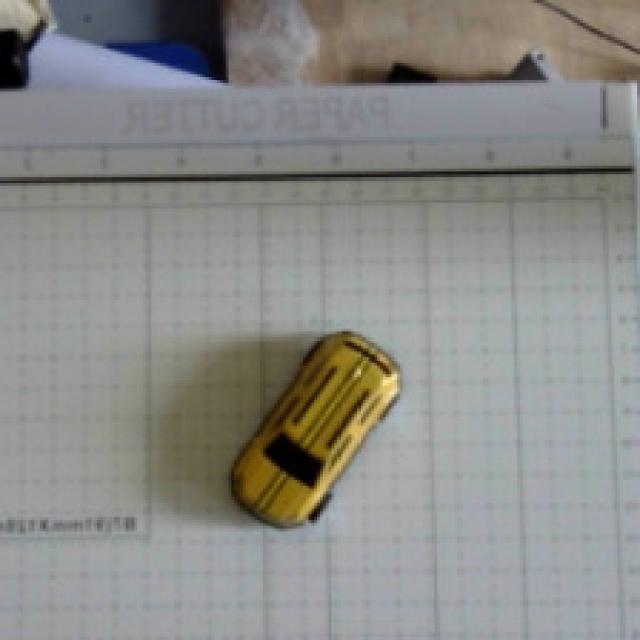Yellow Car: (167, 287, 434, 552)
